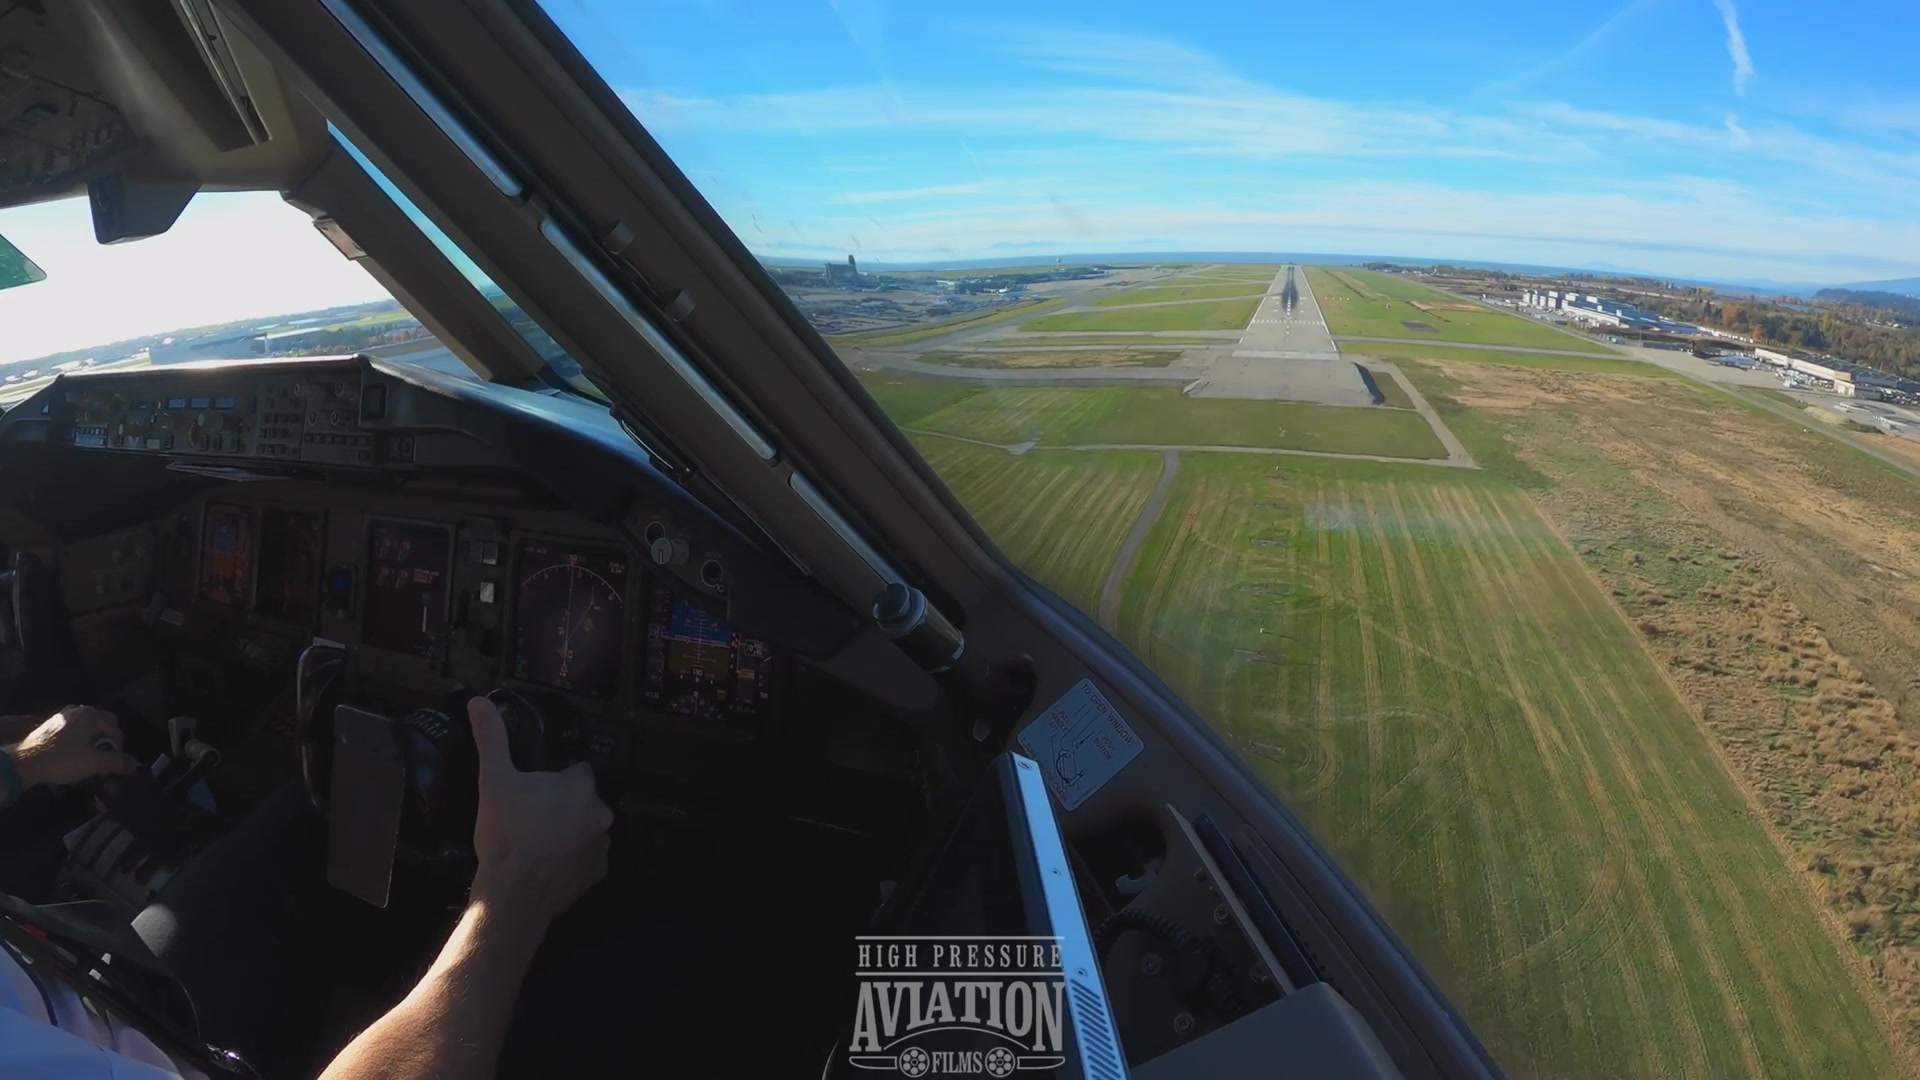entrance: (1249, 315, 1327, 327)
runway: (1236, 264, 1336, 353)
